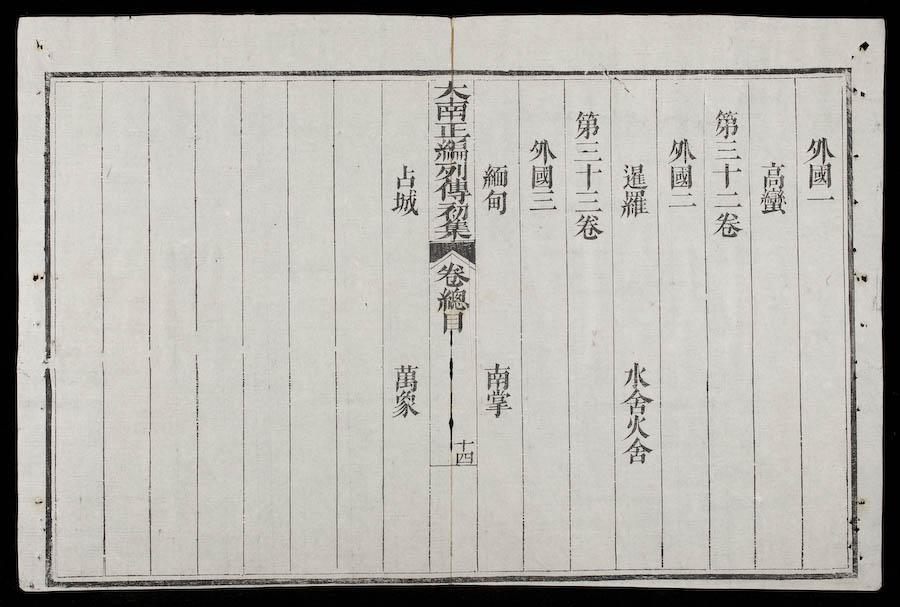c: (711, 106, 742, 139), (434, 261, 471, 288), (571, 108, 602, 140), (802, 135, 836, 163), (618, 190, 650, 219), (621, 438, 654, 466), (430, 79, 473, 100), (758, 160, 788, 190), (620, 360, 651, 389), (711, 211, 743, 239), (665, 136, 697, 164), (710, 162, 743, 189), (620, 389, 654, 415), (435, 288, 470, 313), (433, 180, 471, 203), (619, 161, 649, 190), (391, 363, 421, 392), (482, 361, 512, 390), (390, 391, 421, 419), (479, 162, 510, 190), (572, 163, 604, 190), (572, 214, 604, 241), (389, 191, 421, 218), (432, 100, 471, 122), (431, 141, 470, 163), (757, 189, 789, 215), (483, 390, 513, 417), (527, 137, 557, 164), (431, 123, 472, 142), (621, 415, 652, 440), (433, 222, 473, 241), (392, 163, 420, 190), (805, 164, 834, 190), (481, 190, 509, 216), (434, 204, 472, 223), (527, 191, 557, 215), (572, 190, 603, 213), (433, 163, 470, 182), (667, 165, 695, 190), (528, 165, 556, 190), (572, 140, 603, 162), (712, 139, 742, 161), (711, 190, 744, 210), (438, 313, 467, 335), (666, 192, 697, 212), (804, 192, 836, 208), (453, 437, 474, 452), (454, 450, 474, 464)
